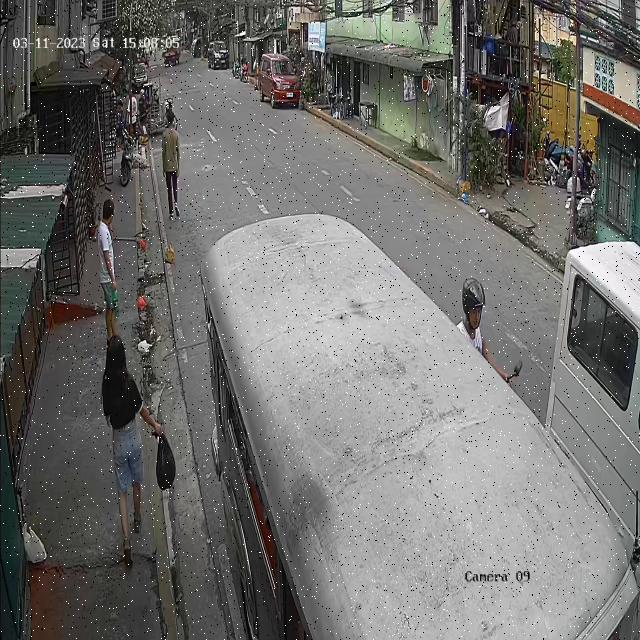garbage_dumping: (152, 427, 178, 493), (110, 286, 124, 318)
